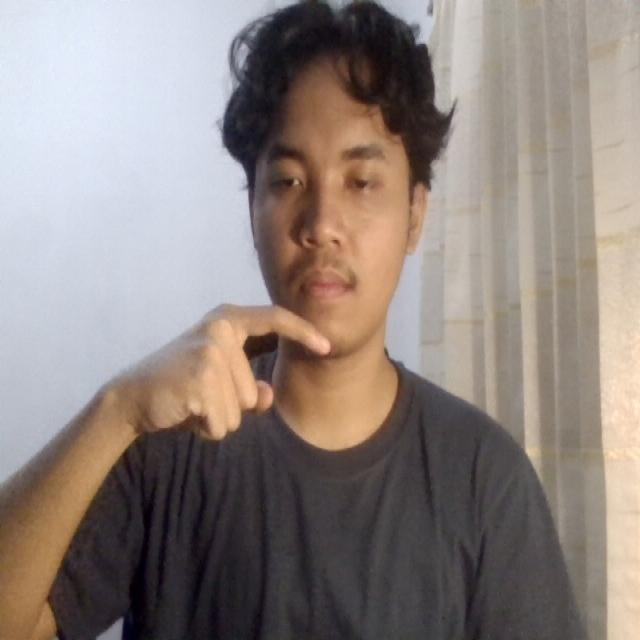N: (152, 280, 367, 475)
